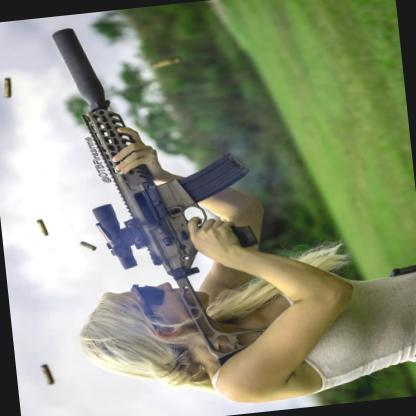rifle: (21, 12, 284, 383)
